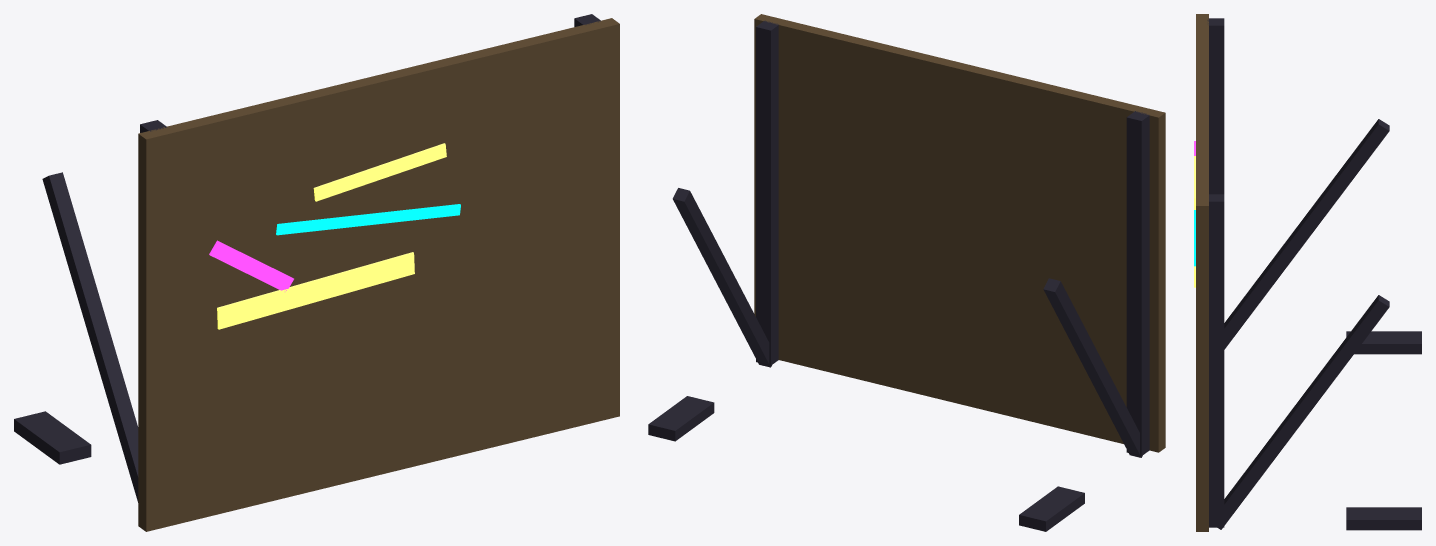
File: graffiti-board.glb
3 views of the same model, side by side, from view 1: azimuth 30°, elevation 25°; view 2: azimuth 150°, elevation 25°; view 3: azimuth 270°, elevation 25° (orthographic). The views are drawn at different scales.
Parts seen in each view (by area): view 1: graffiti-board; view 2: graffiti-board; view 3: graffiti-board.
Boxes of the visible parts, x1=… form: graffiti-board: x1=14, y1=14, x2=619, y2=531; graffiti-board: x1=648, y1=14, x2=1165, y2=531; graffiti-board: x1=1194, y1=14, x2=1421, y2=531.
Bounding box in the file's own units: 2.4 × 1.92 × 1.2.
